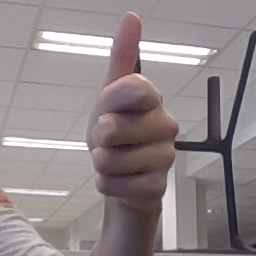G: (86, 10, 181, 201)
